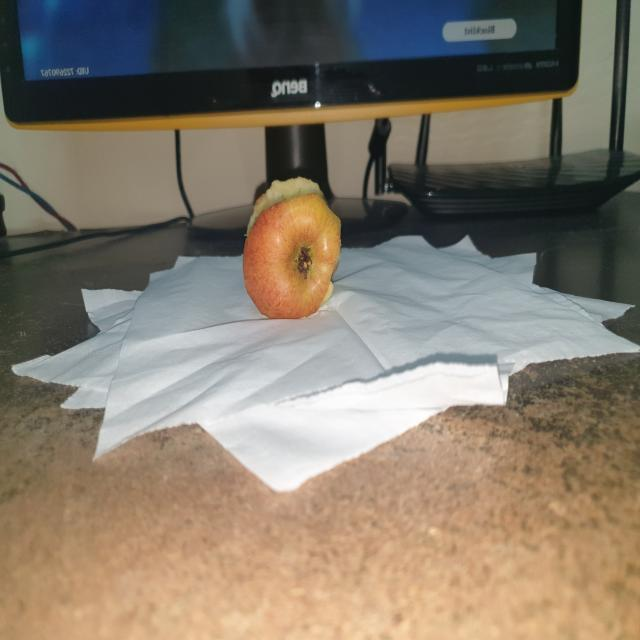apple: (235, 164, 350, 333)
